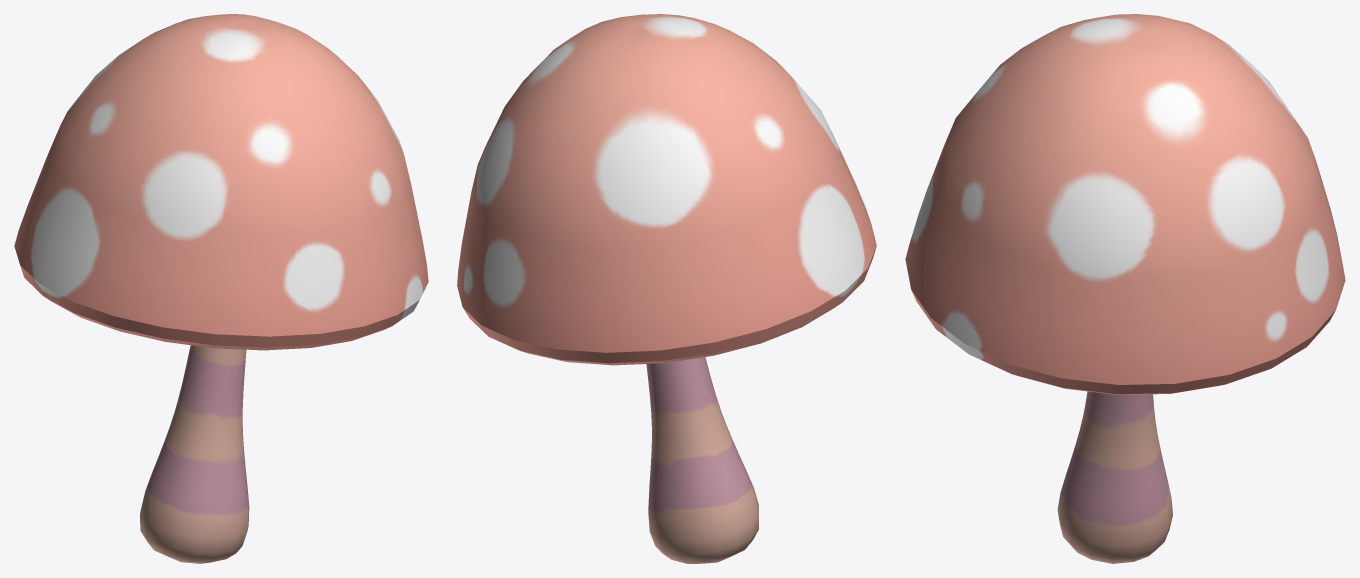
File: Shroom2-optimized.glb
3 renders of one model, left to right at view 1: azimuth 30°, elevation 25°; view 2: azimuth 150°, elevation 25°; view 3: azimuth 270°, elevation 25°, orthographic. The views are drawn at different scales.
Parts seen in each view (by area): view 1: Vert.016; view 2: Vert.016; view 3: Vert.016.
Boxes of the visible parts, <box> form: Vert.016: <box>14,14,428,563</box>; Vert.016: <box>457,14,876,563</box>; Vert.016: <box>905,14,1345,563</box>.
Bounding box in the file's own units: 0.5391 × 0.7383 × 0.5423.
1 material, 1 textured.
